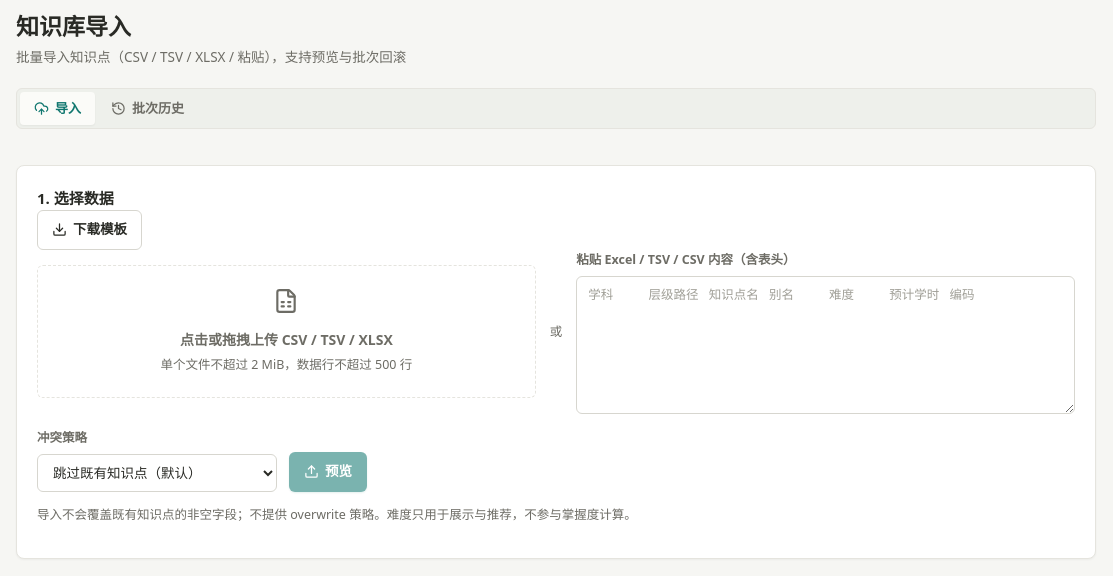
Test: AdminKnowledgeImportView › 批次历史展示全部要求的列与状态
The width and height of the screenshot is (1113, 576).
Click the button "批次历史".
click(148, 109)  # box [97,92,198,125]
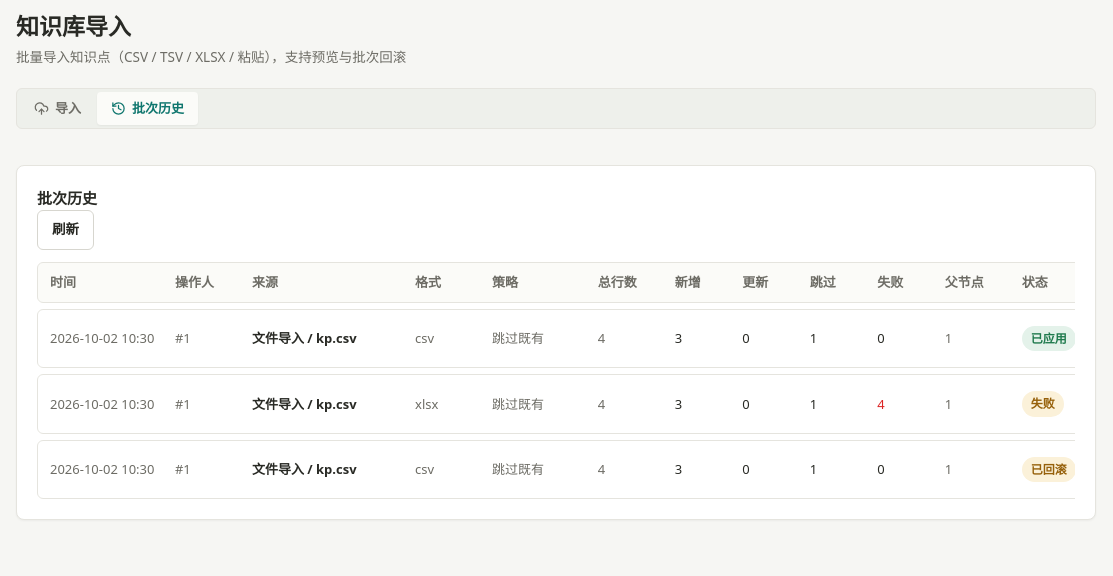
Check: the element with class "imp-tr-batch" shows "2026-10-02 10:30", box [50,329,154,347]
Check: the element with class "imp-tr-batch" shows "文件导入 / kp.csv", box [252,329,357,347]
Check: the element with class "imp-tr-batch" shows "已应用", box [1031,330,1067,347]
